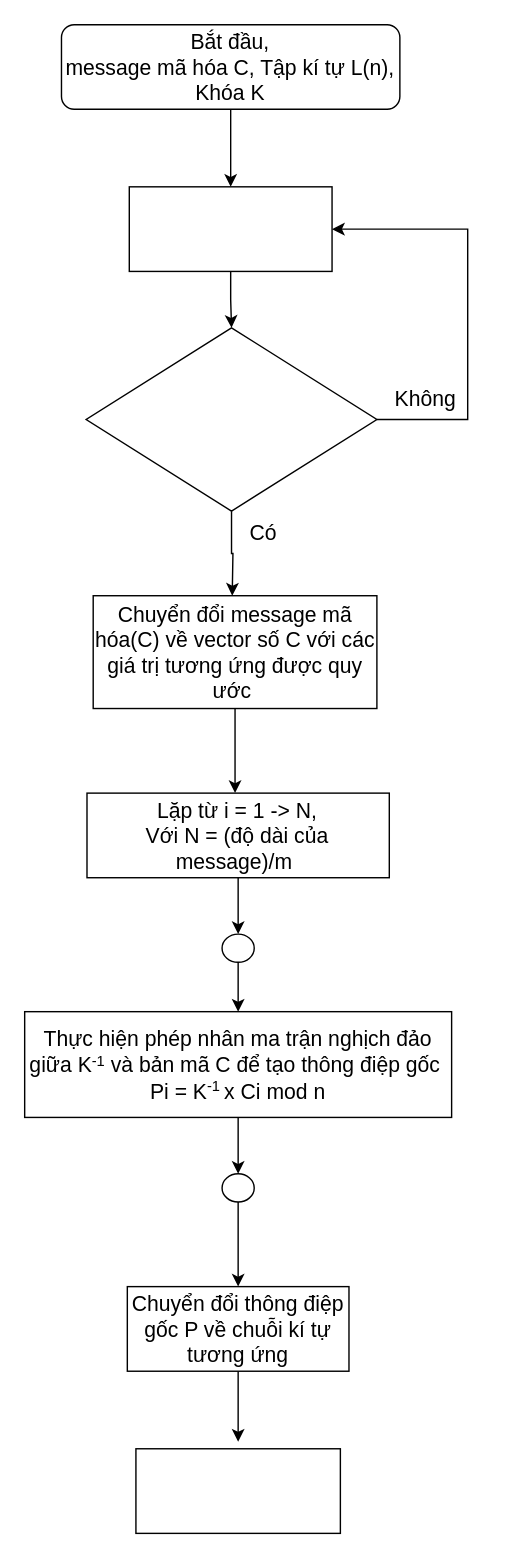
This 505x1558 diagram has some shape labels left out. Here are the shapes that lost their labels. From the top down, the box of each, then its label:
(128, 185, 332, 271): Tạo ma trận khóa mxm (K)
(85, 326, 377, 511): Kiểm tra ma trận có khả nghịch hay không
(135, 1447, 340, 1533): Thu được message gốc ban đầu
